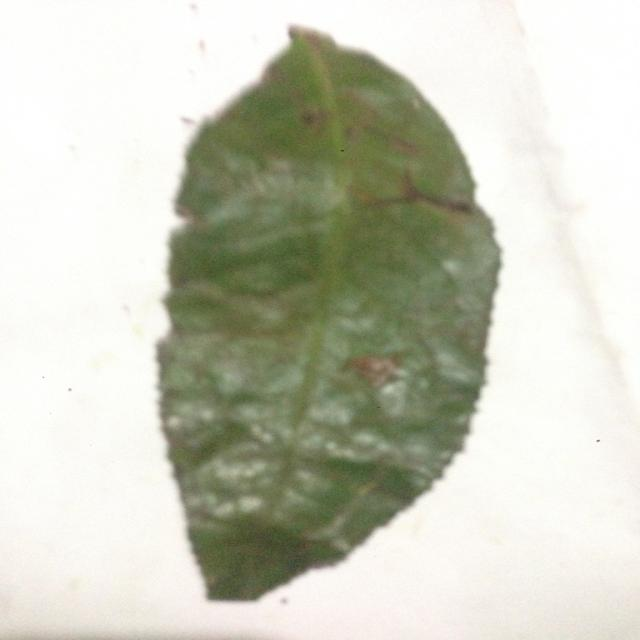Red Leaf Spot: (129, 17, 532, 605)
